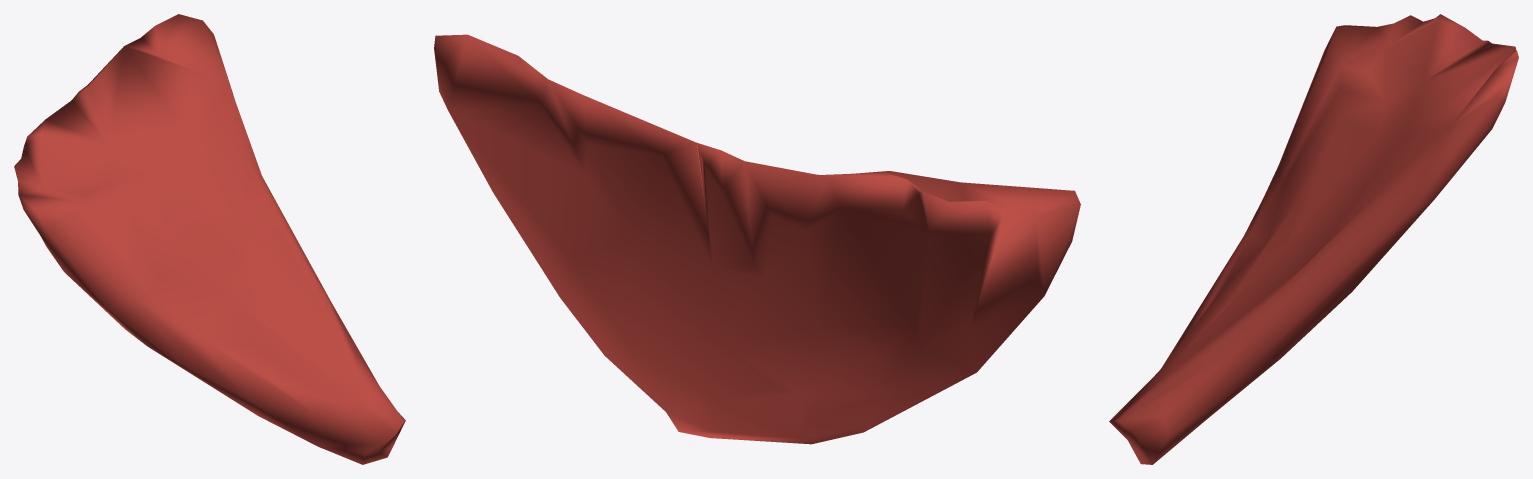
Rendered from musculos-rectus-posterior-minor-capitis-muscle-r.glb.
3 renders of one model, left to right at view 1: azimuth 30°, elevation 25°; view 2: azimuth 150°, elevation 25°; view 3: azimuth 270°, elevation 25°, orthographic. The views are drawn at different scales.
Parts seen in each view (by area): view 1: Rectus posterior minor capitis muscle.r; view 2: Rectus posterior minor capitis muscle.r; view 3: Rectus posterior minor capitis muscle.r.
Part boxes in pixels (x1,y1,x2,y2): Rectus posterior minor capitis muscle.r: (14,14,405,464); Rectus posterior minor capitis muscle.r: (434,34,1080,444); Rectus posterior minor capitis muscle.r: (1109,14,1518,464).
Bounding box in the file's own units: 0.0236 × 0.026 × 0.0253.
